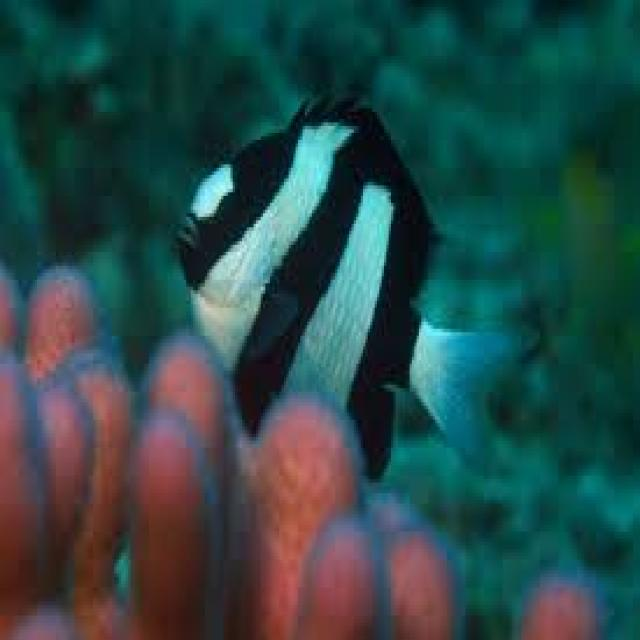Three_striped DasmselFish: (180, 92, 536, 472)
